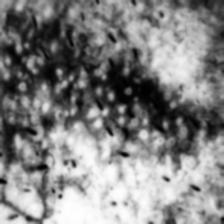Potentially Malignant Skin Tumors: (0, 33, 224, 171)
